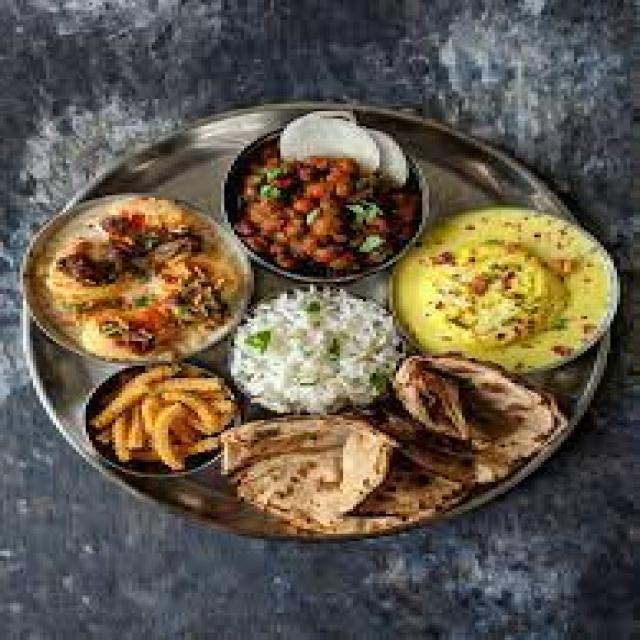dal: (384, 197, 620, 371)
rice: (225, 278, 404, 424)
roti: (244, 400, 442, 533)
veg-fry: (236, 133, 416, 267)
